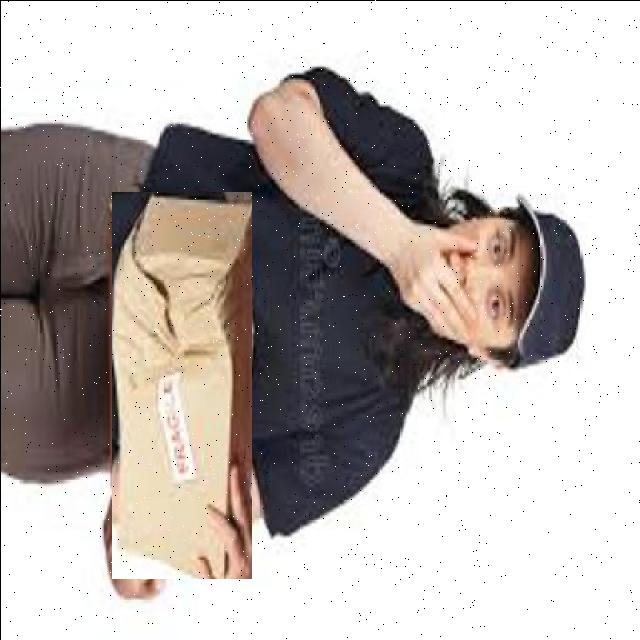defect: (111, 191, 251, 578)
